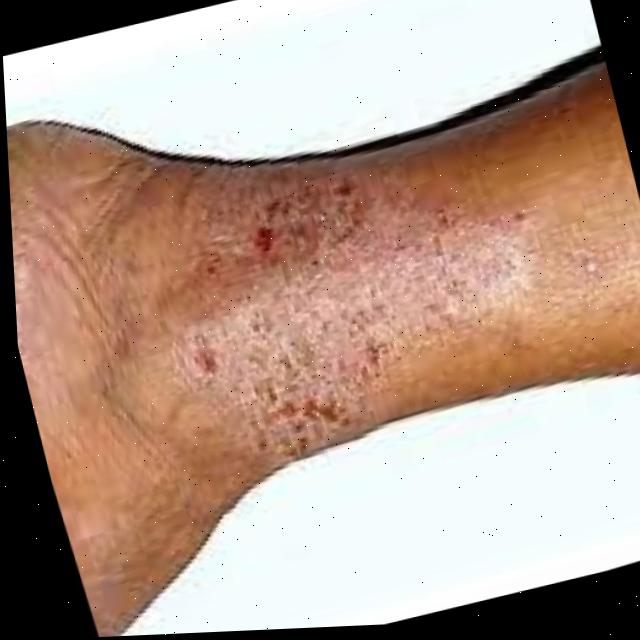Eczema: (140, 122, 513, 450)
